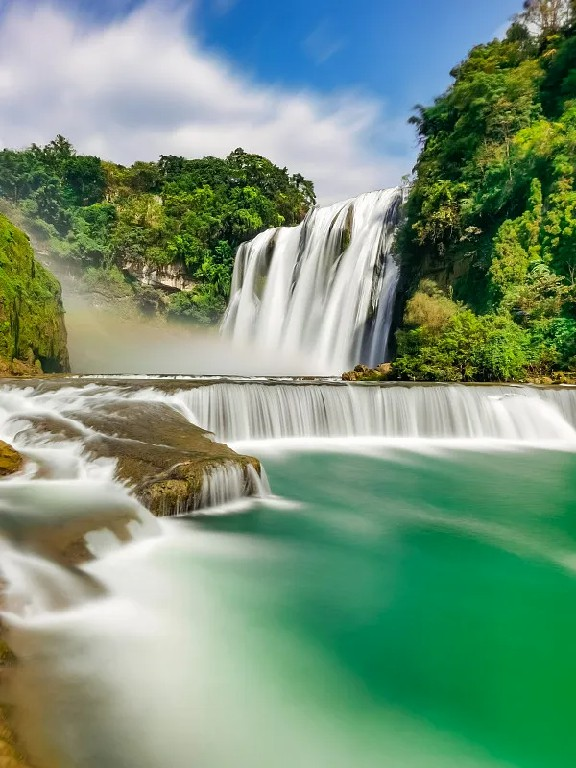Huangguoshu: (224, 184, 401, 375)
